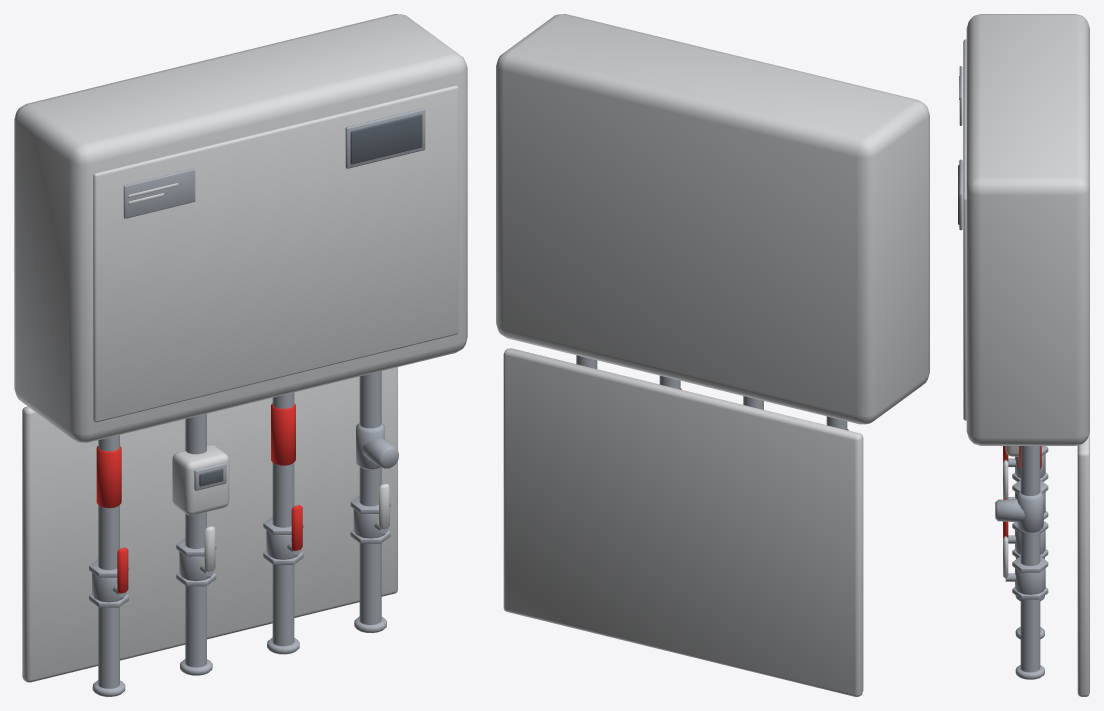
File: heizung.fernwaerme_uebergabe.glb
3 renders of one model, left to right at view 1: azimuth 30°, elevation 25°; view 2: azimuth 150°, elevation 25°; view 3: azimuth 270°, elevation 25°, orthographic. The views are drawn at different scales.
Parts seen in each view (by area): view 1: heizung.fernwaerme_uebergabe; view 2: heizung.fernwaerme_uebergabe; view 3: heizung.fernwaerme_uebergabe.
Boxes of the visible parts, x1=… form: heizung.fernwaerme_uebergabe: x1=14, y1=14, x2=467, y2=696; heizung.fernwaerme_uebergabe: x1=496, y1=14, x2=929, y2=696; heizung.fernwaerme_uebergabe: x1=958, y1=14, x2=1089, y2=696.
Bounding box in the file's own units: 1 × 1.4 × 0.321.
